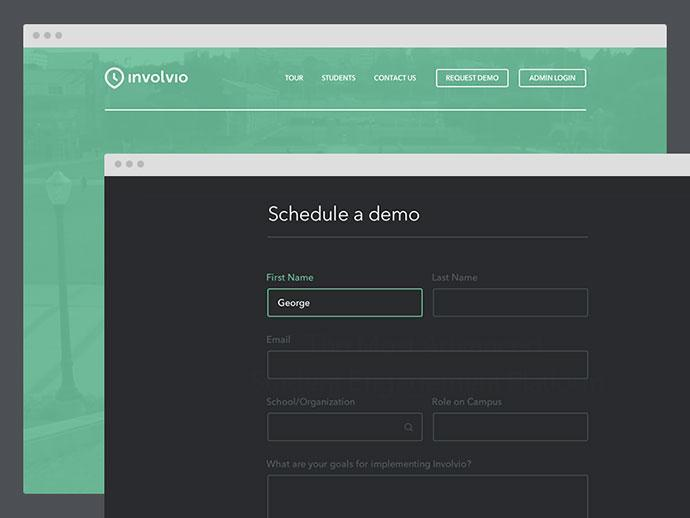button: (438, 71, 509, 88), (520, 70, 586, 86)
icon: (101, 66, 127, 92)
input: (268, 352, 590, 381), (268, 413, 424, 443), (435, 290, 589, 318), (269, 289, 424, 316), (435, 414, 590, 441)
label: (260, 198, 426, 230), (263, 454, 481, 477), (266, 393, 361, 411), (425, 395, 515, 412), (126, 69, 191, 87), (371, 71, 424, 87), (431, 271, 483, 285), (263, 273, 317, 283), (321, 73, 359, 86), (281, 71, 309, 87), (261, 335, 295, 345)
